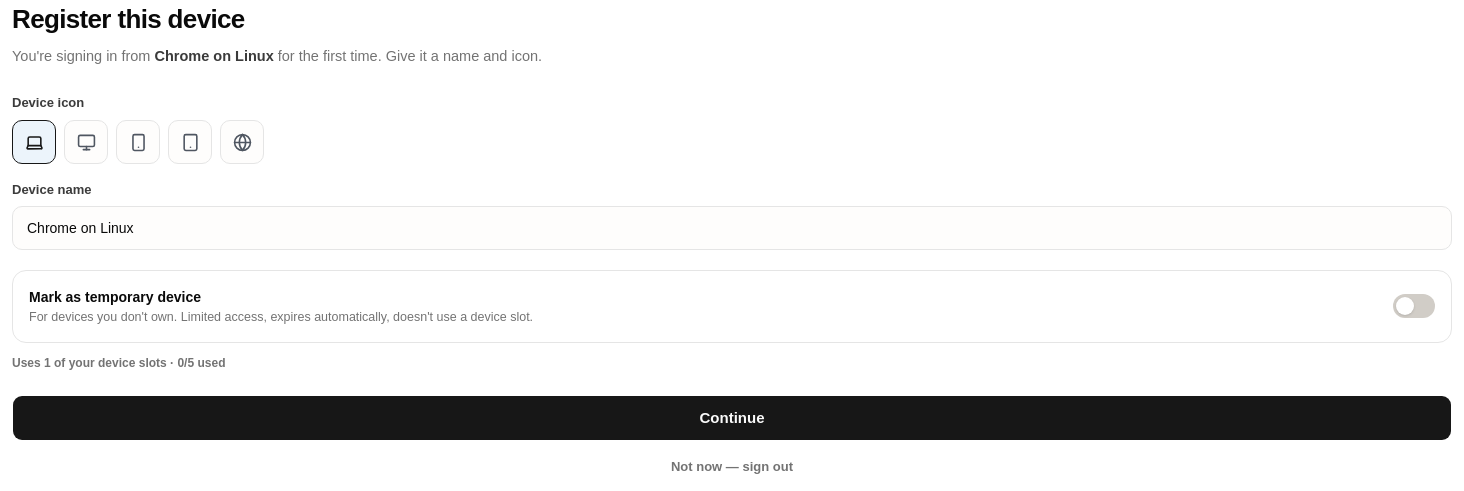
it: RegisterDeviceForm › sends the selected iconCode with the registration payload
Click the button named "Tablet": click(190, 142) [168,120,212,164]
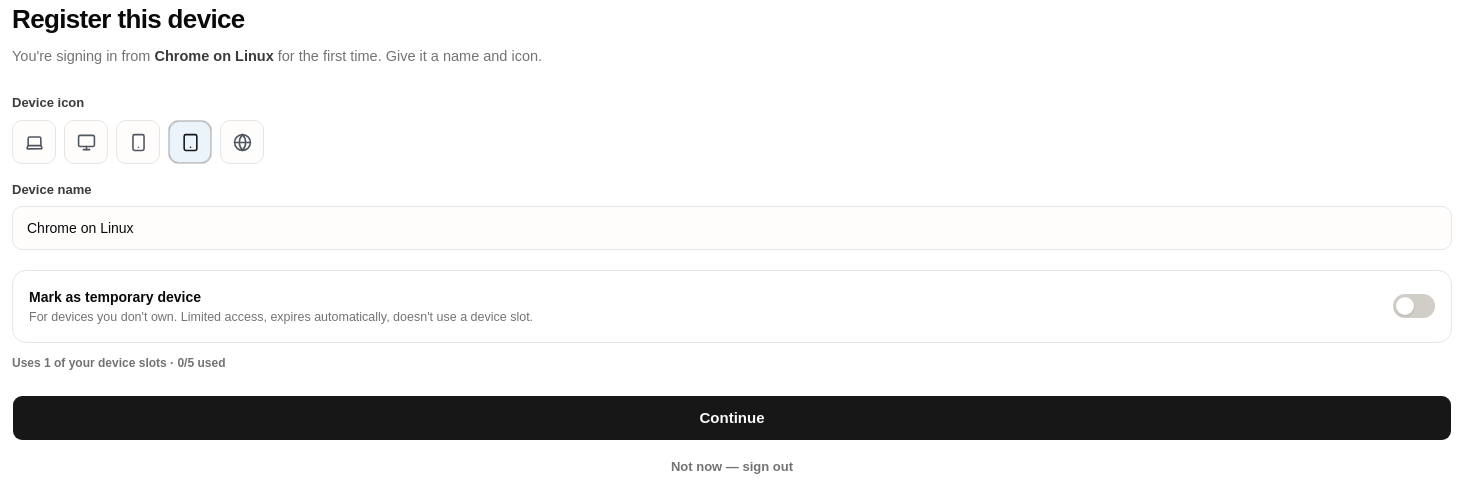
Click the button "Continue": click(732, 418) [12,395,1452,441]
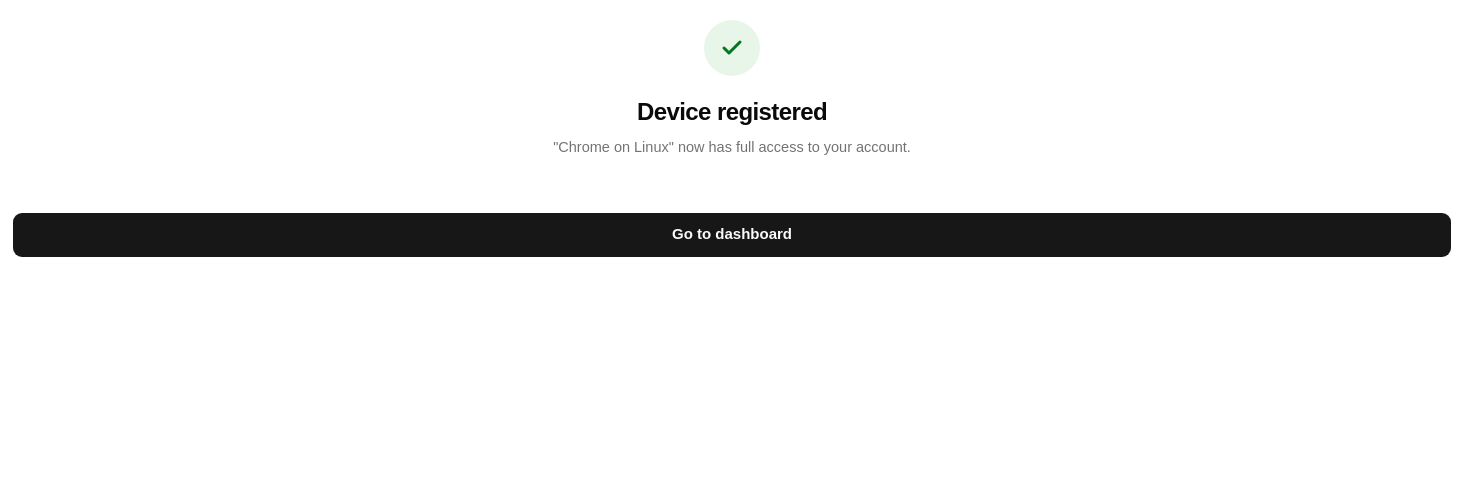
expect the text "Device registered" is shown: met, box [637,98,827,125]
